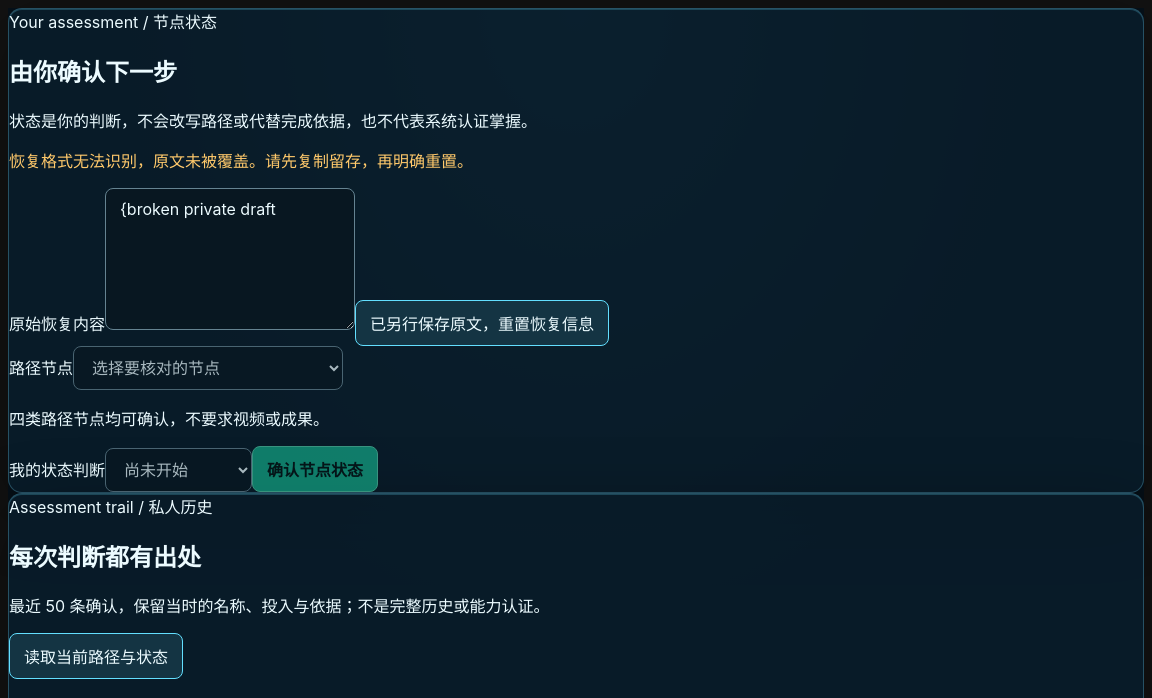
Test: corrupt recovery remains copyable and unchanged until explicit reset
The image size is (1152, 698).
Check: the text box named "原始恢复内容" holds "{broken private draft", box [105, 188, 355, 330]
Check: the button "确认节点状态" is disabled, box [252, 446, 378, 492]
Click the button "已另行保存原文，重置恢复信息".
click(482, 323)  # box [355, 300, 609, 346]
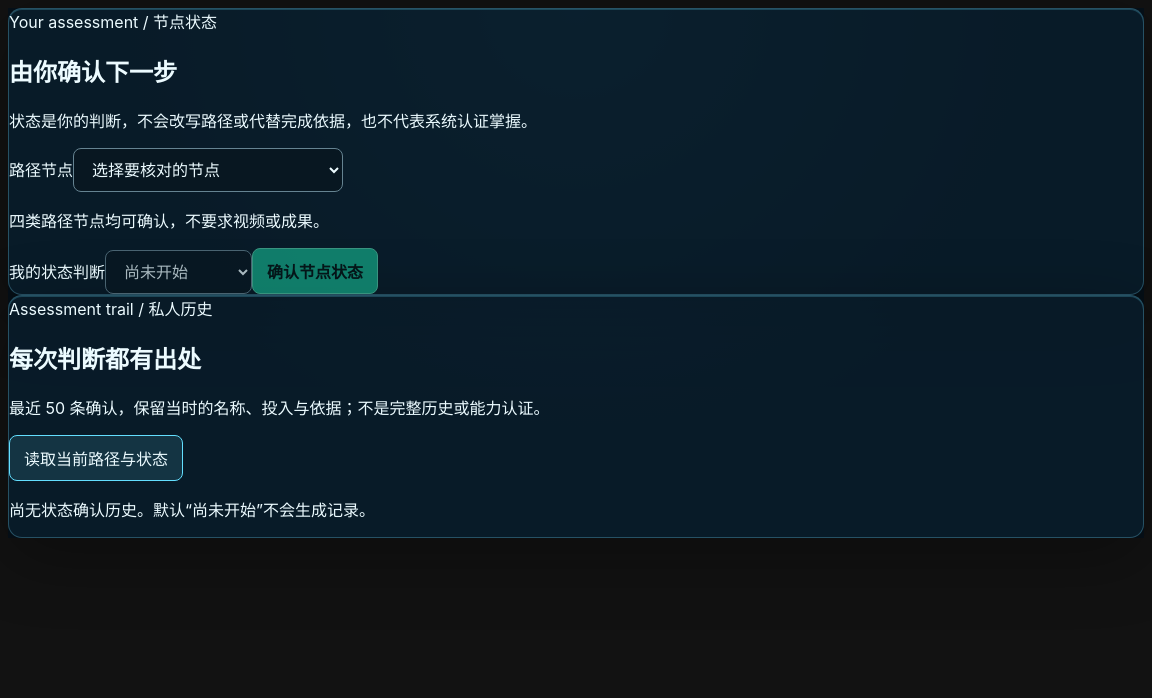
Select "表达 / 第一周 / 实践 · 独立演讲" in the dropdown named "路径节点" at (208, 170), box [73, 148, 343, 192]
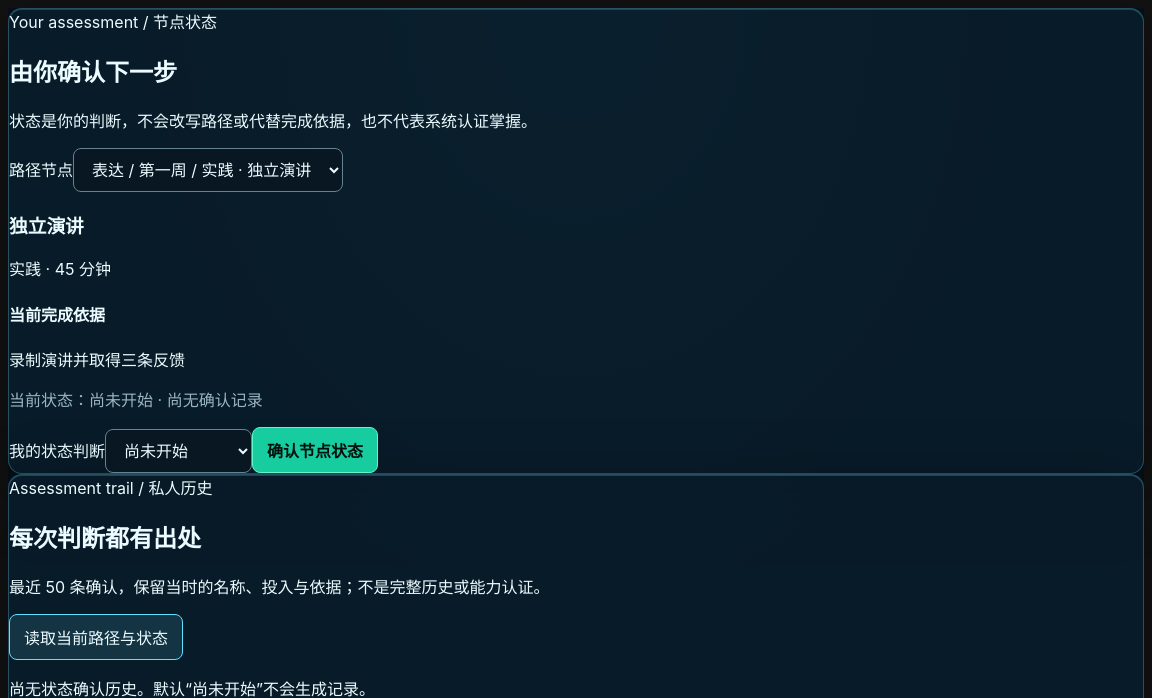
Select "进行中" in the dropdown named "我的状态判断" at (178, 451), box [105, 429, 252, 473]
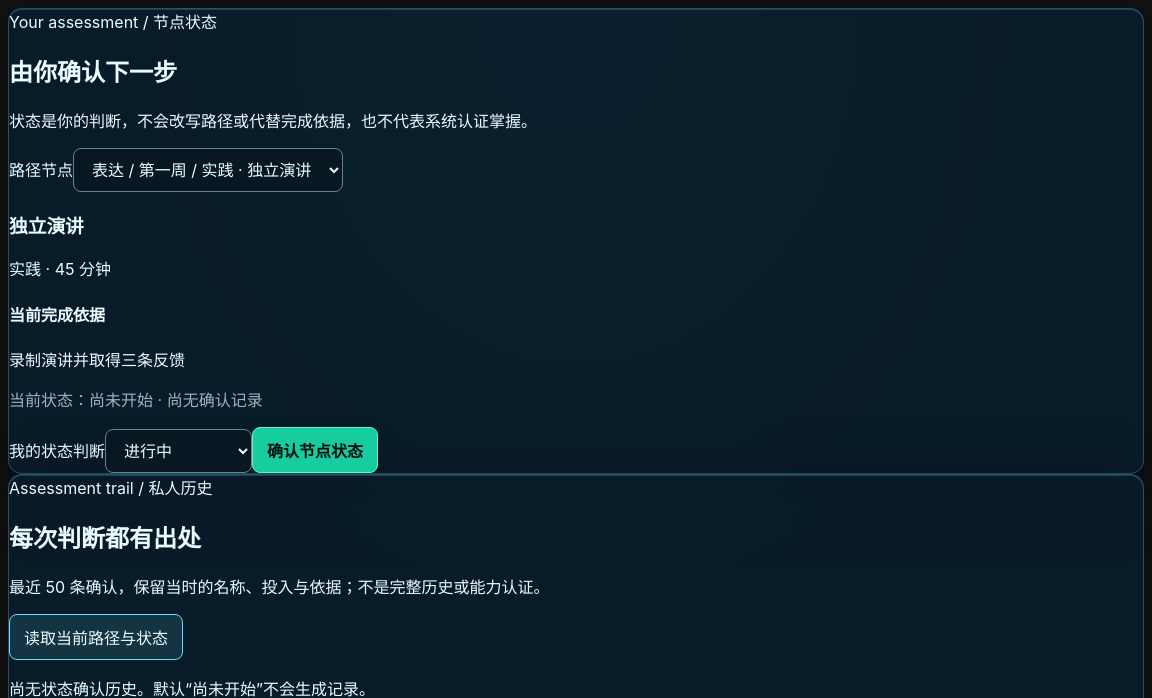
Click the button "确认节点状态".
click(315, 450)  # box [252, 427, 378, 473]
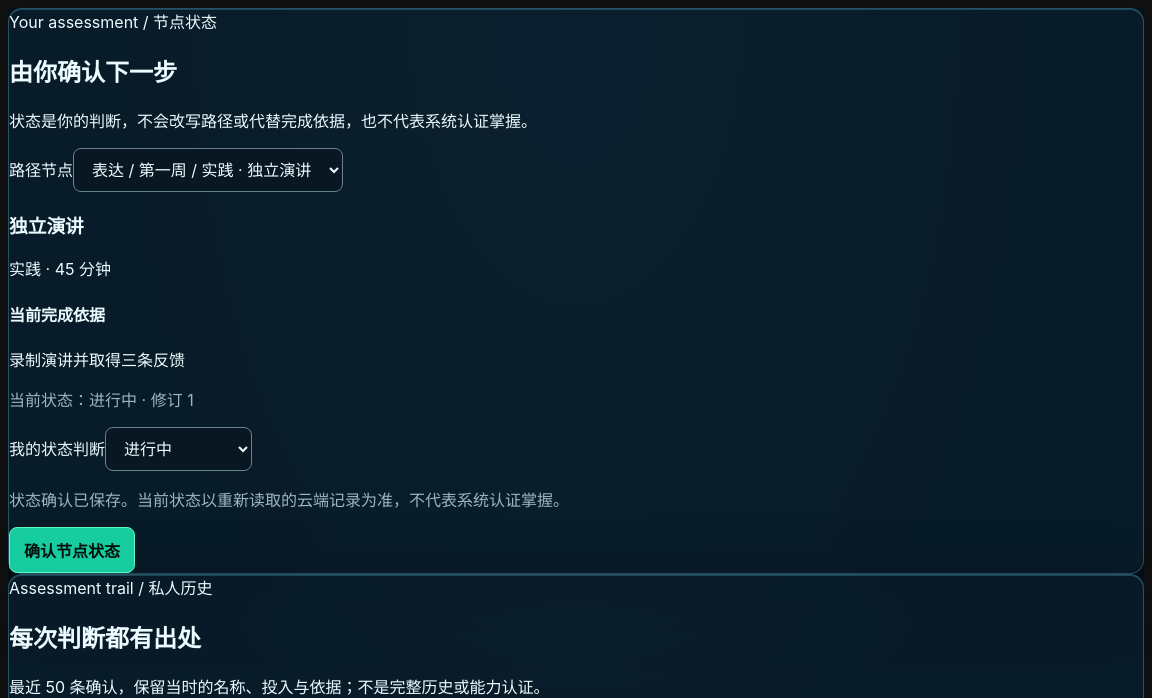
Check: the text "状态确认已保存" is shown, box [9, 490, 569, 510]
